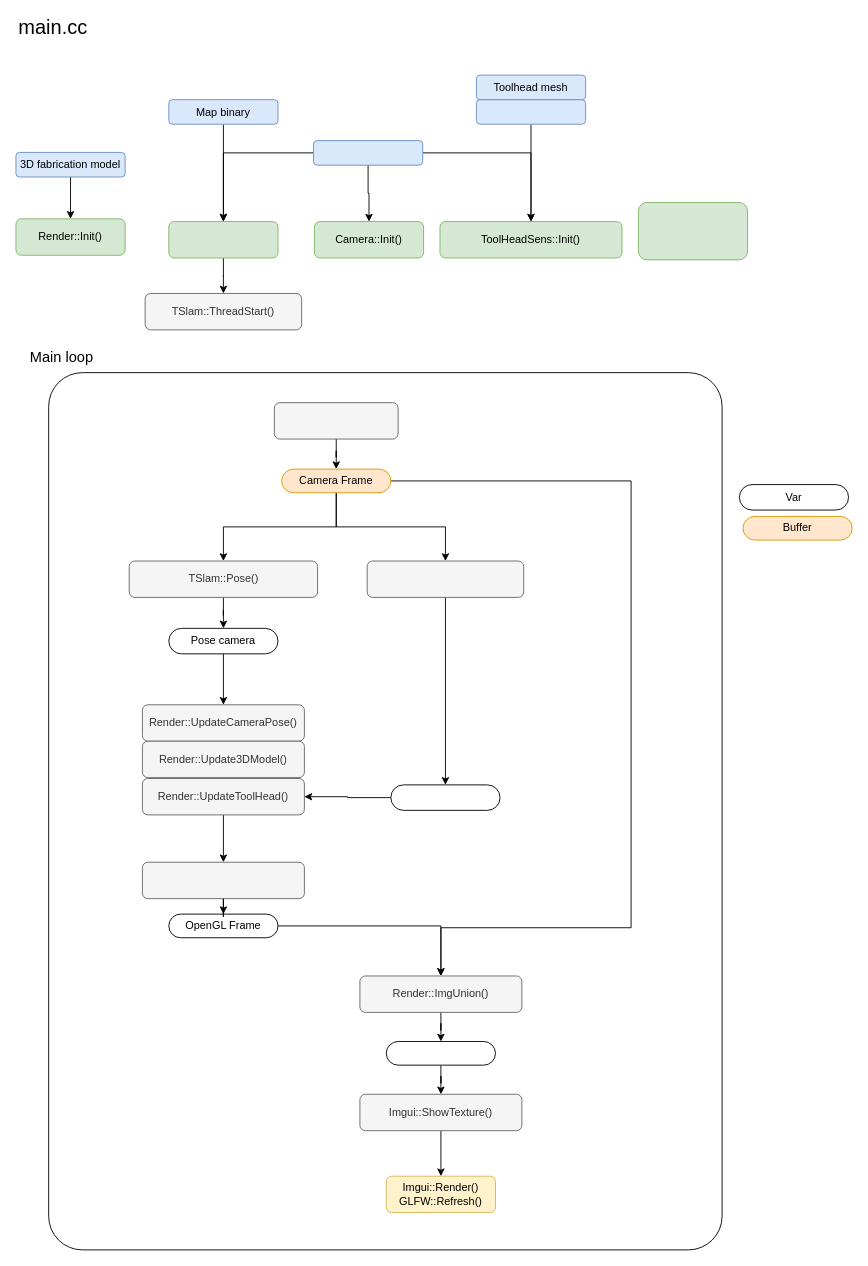
The diagram is 868 pixels wide and 1266 high, and some of its shapes have lost their labels. Each missing label, with the centre of its shape:
"Camera Calib .yaml" goes at point (368, 152).
"Camera::ReadFrame()" goes at point (335, 420).
"Initial Pose" goes at point (530, 111).
"OpenGL::Init() GLFW::Init() ImGUI::Init()" goes at point (692, 231).
"Pose toolhead" goes at point (445, 797).
"Render::UpdateGLFrame()" goes at point (223, 880).
"Rendered Texture" goes at point (440, 1053).
"ToolHeadSens::Pose()" goes at point (445, 578).
"TSlam::Init()" goes at point (223, 239).
